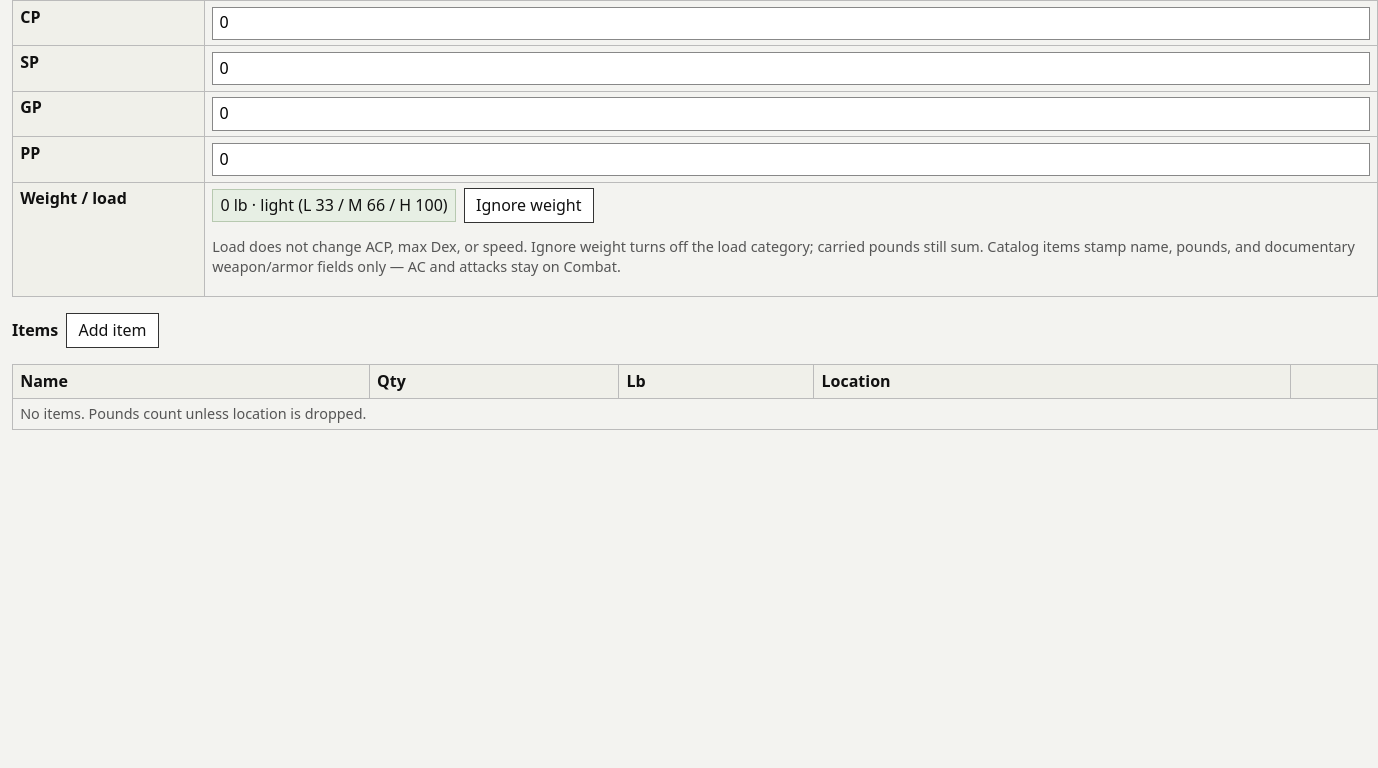
Scenario: InventoryPanel weapon properties › stamps trip and monk together on a kama
The image size is (1378, 768).
Click the button "Add item" at (112, 330), box [66,313,159,348]
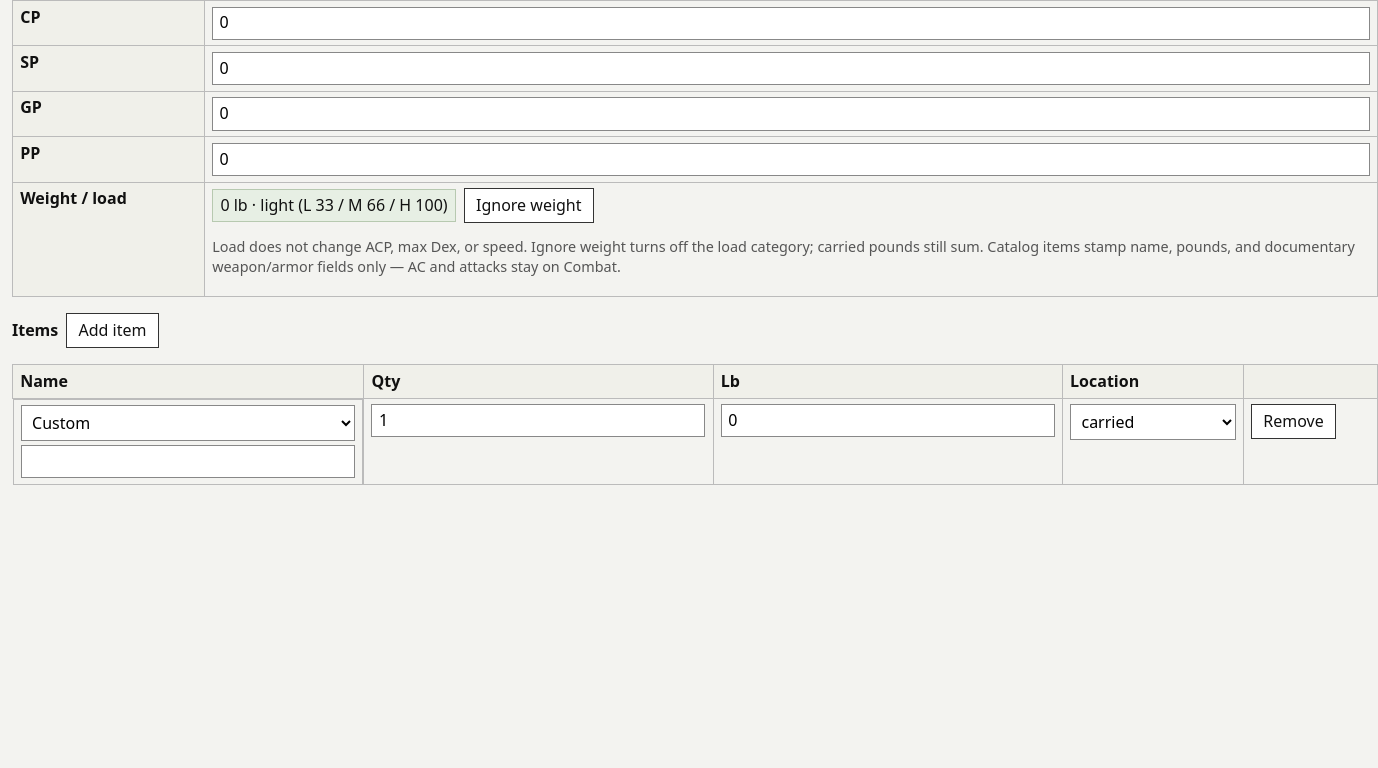
Select "Kama" in the dropdown named "CRB item" at (188, 423), box [21,405,355,441]
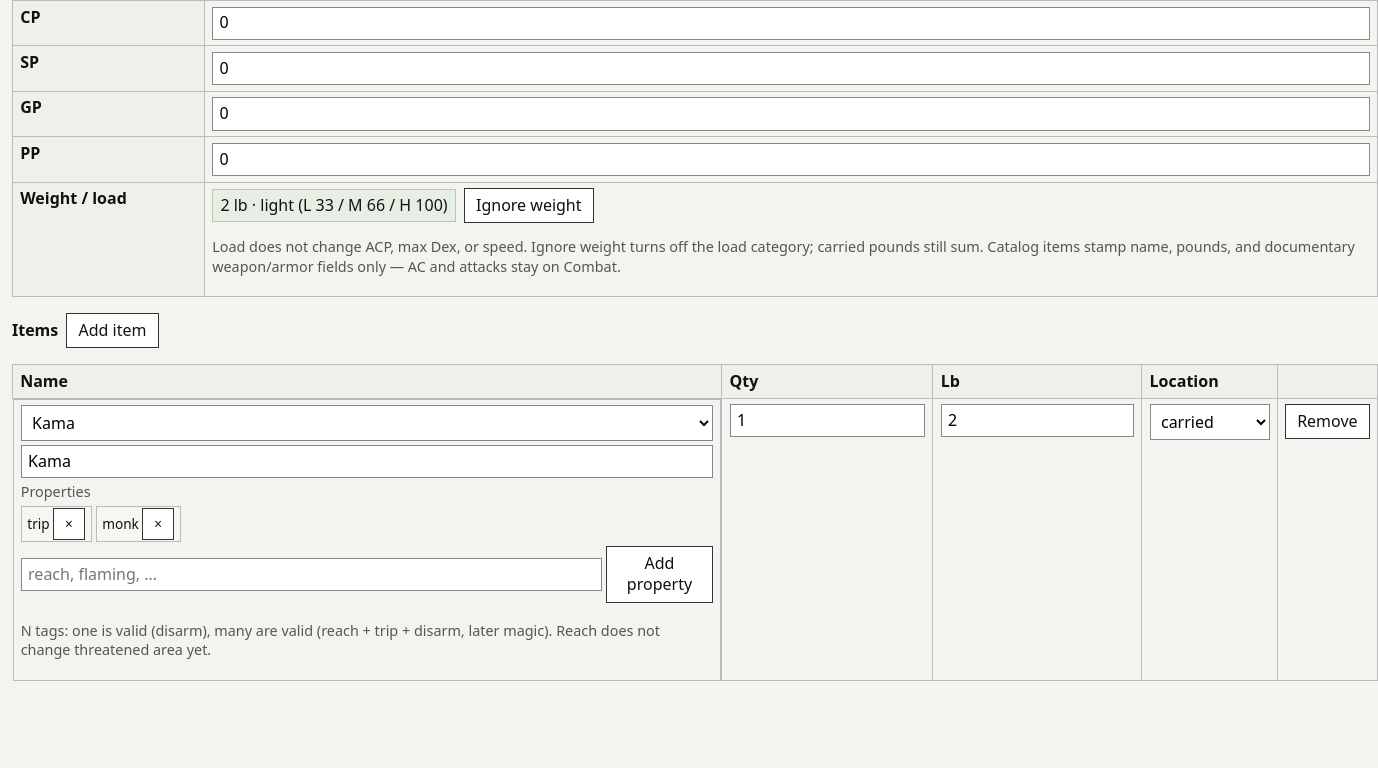
Expected: the text "trip" is shown, [27,515,50,533]
Expected: the text "monk" is shown, [102,515,139,533]
